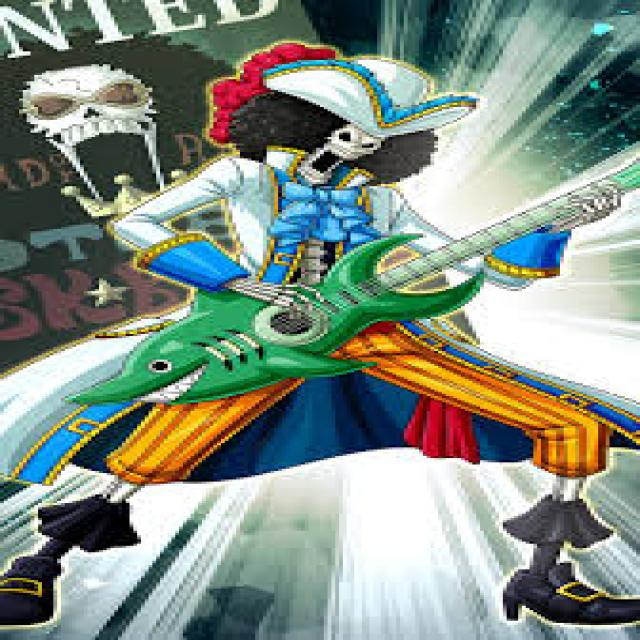Brook: (0, 43, 640, 627)
